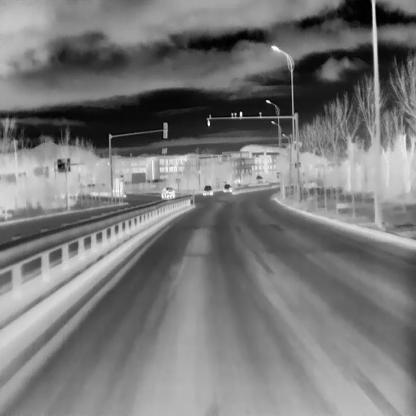car: (160, 186, 175, 199), (202, 184, 213, 195), (223, 183, 232, 192)
